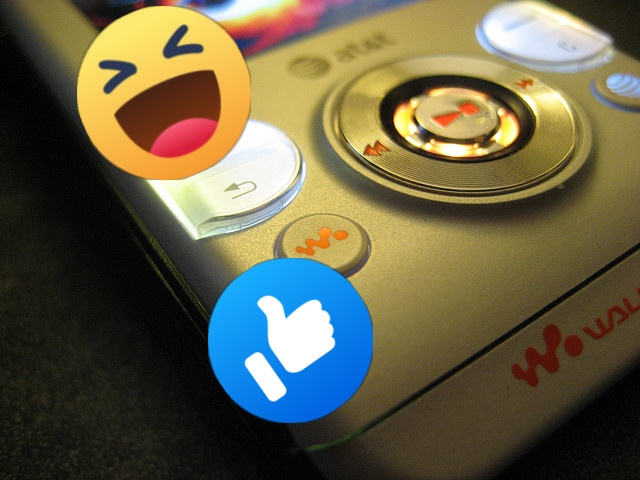haha: (77, 6, 251, 180)
like: (208, 258, 373, 423)
